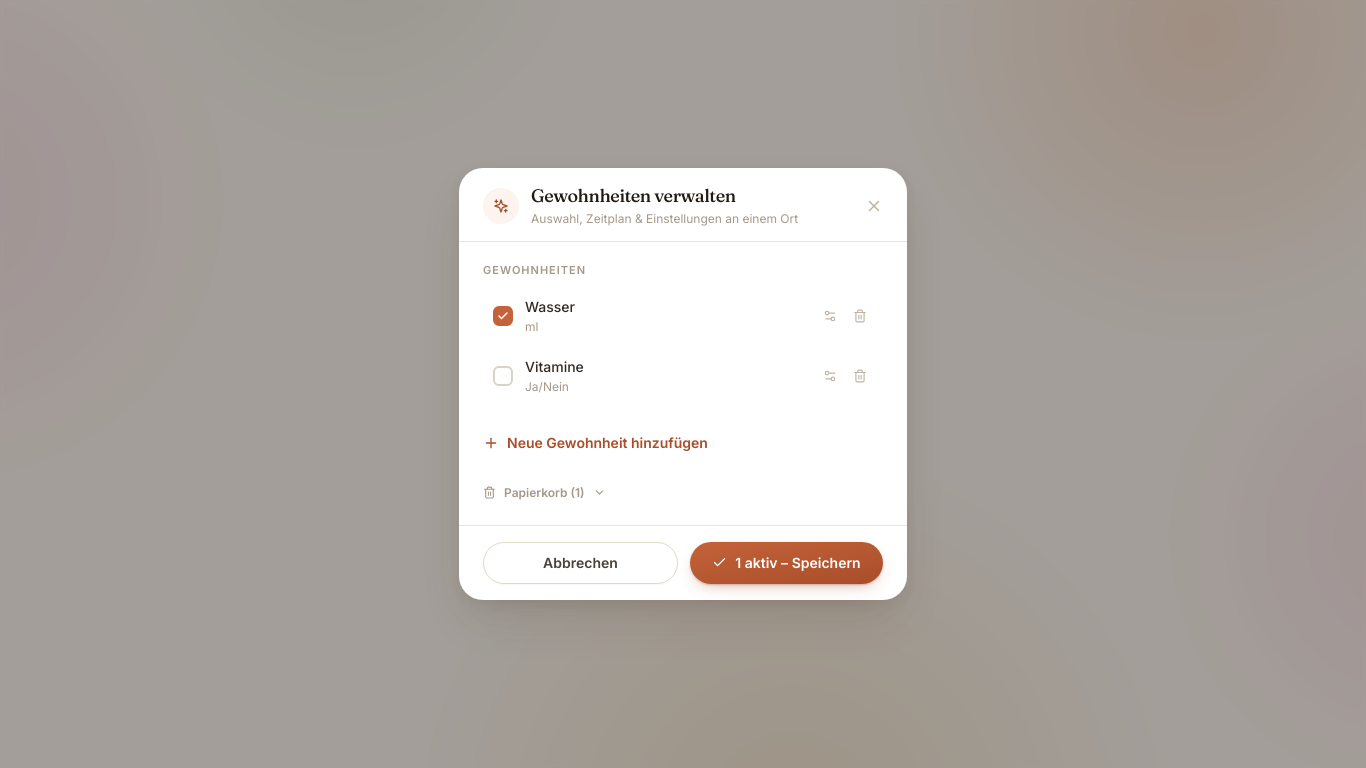
ManageHabitsModal › creates a habit with inline schedule settings in one go
Click the button "Neue Gewohnheit hinzufügen": (595, 443) top-left (483, 429), bottom-right (708, 457)
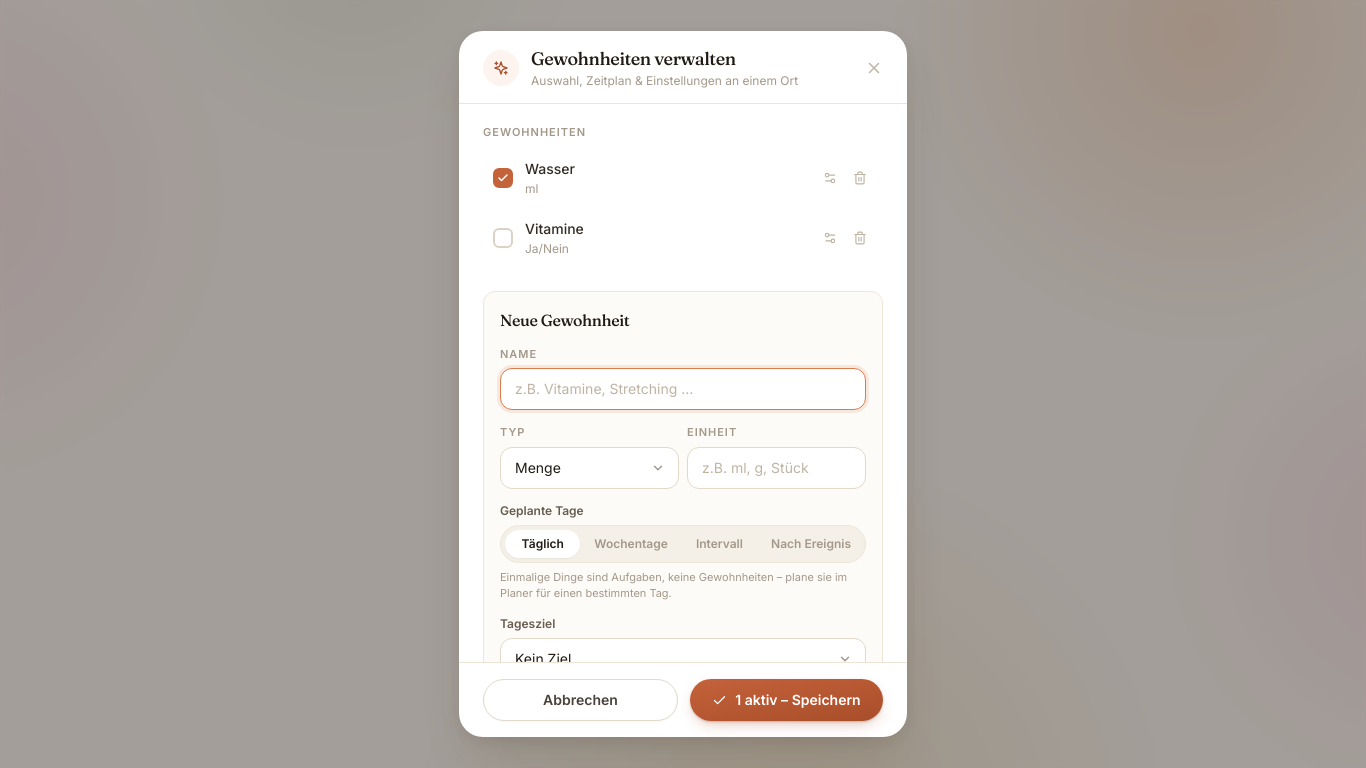
In the field with placeholder "z.B. Vitamine, Stretching …": (683, 390) top-left (500, 368), bottom-right (866, 410), type "Lesen"
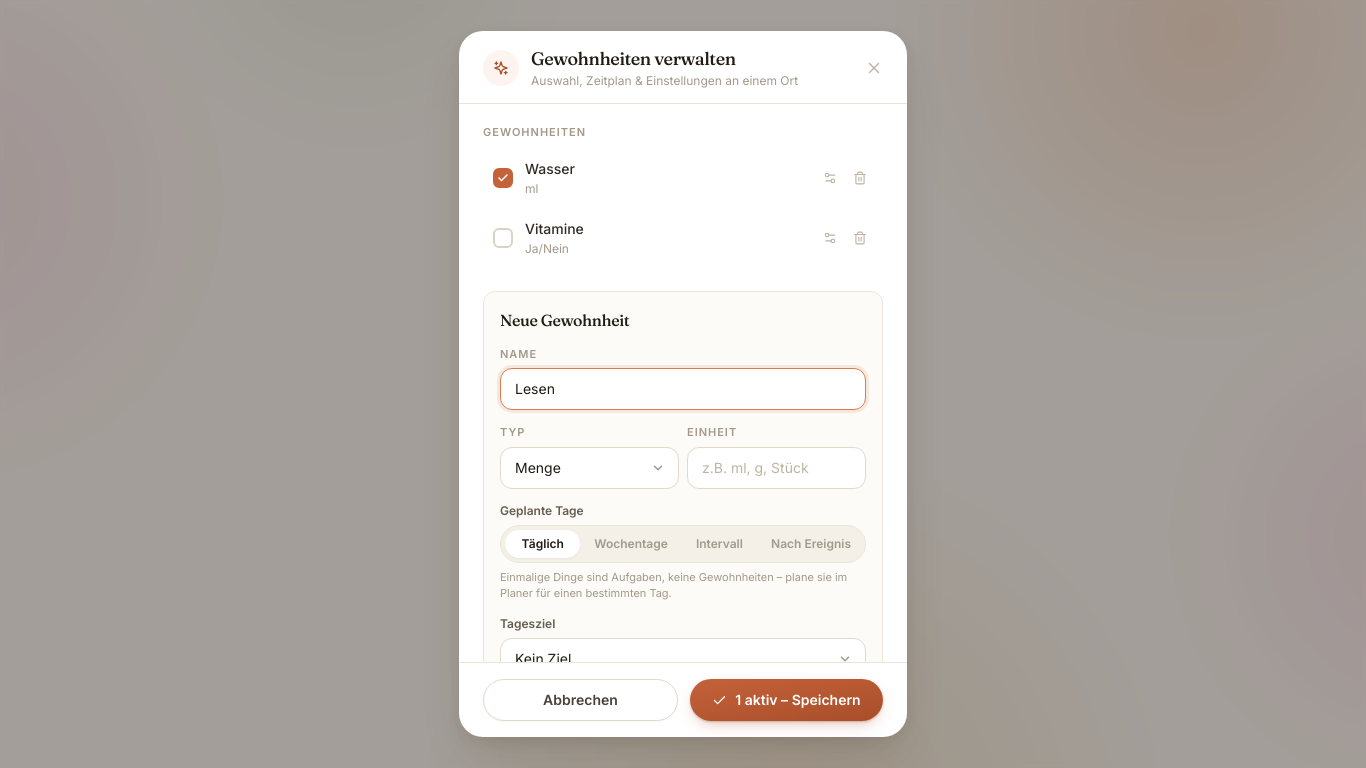
In the field with placeholder "z.B. ml, g, Stück": (776, 468) top-left (687, 447), bottom-right (866, 489), type "min"
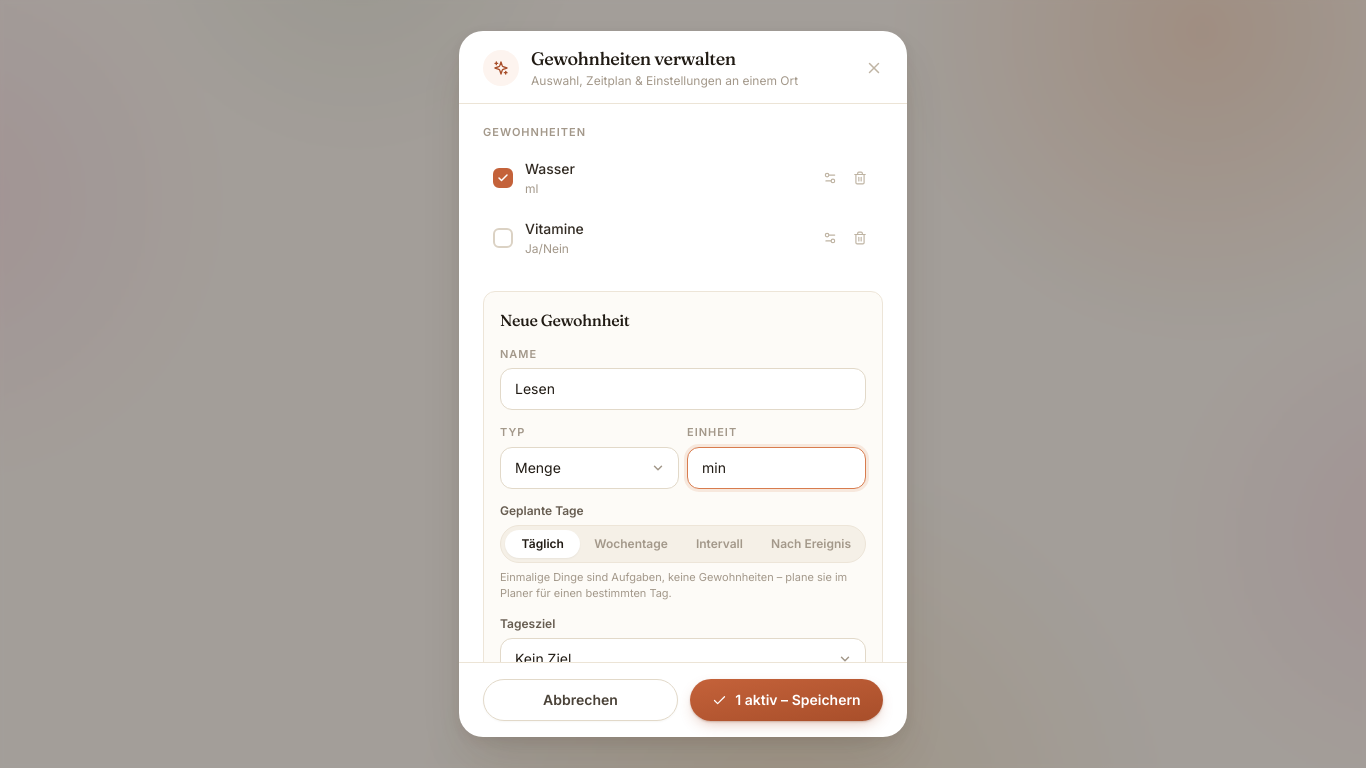
Note: Schedule fields are right in the create form
Click the button "Wochentage": (631, 544) top-left (584, 530), bottom-right (678, 558)
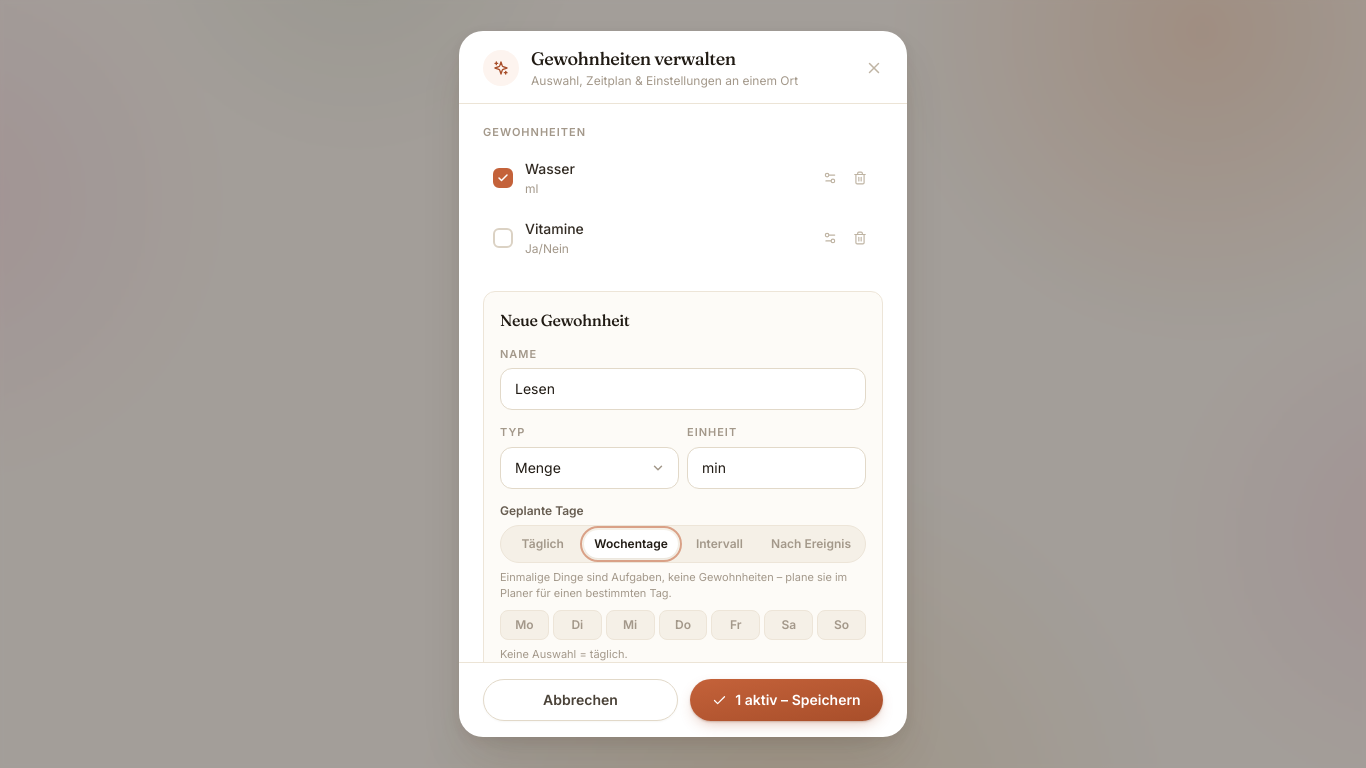
Click the button "Mo": (524, 625) top-left (500, 610), bottom-right (549, 640)
(page scrolled)
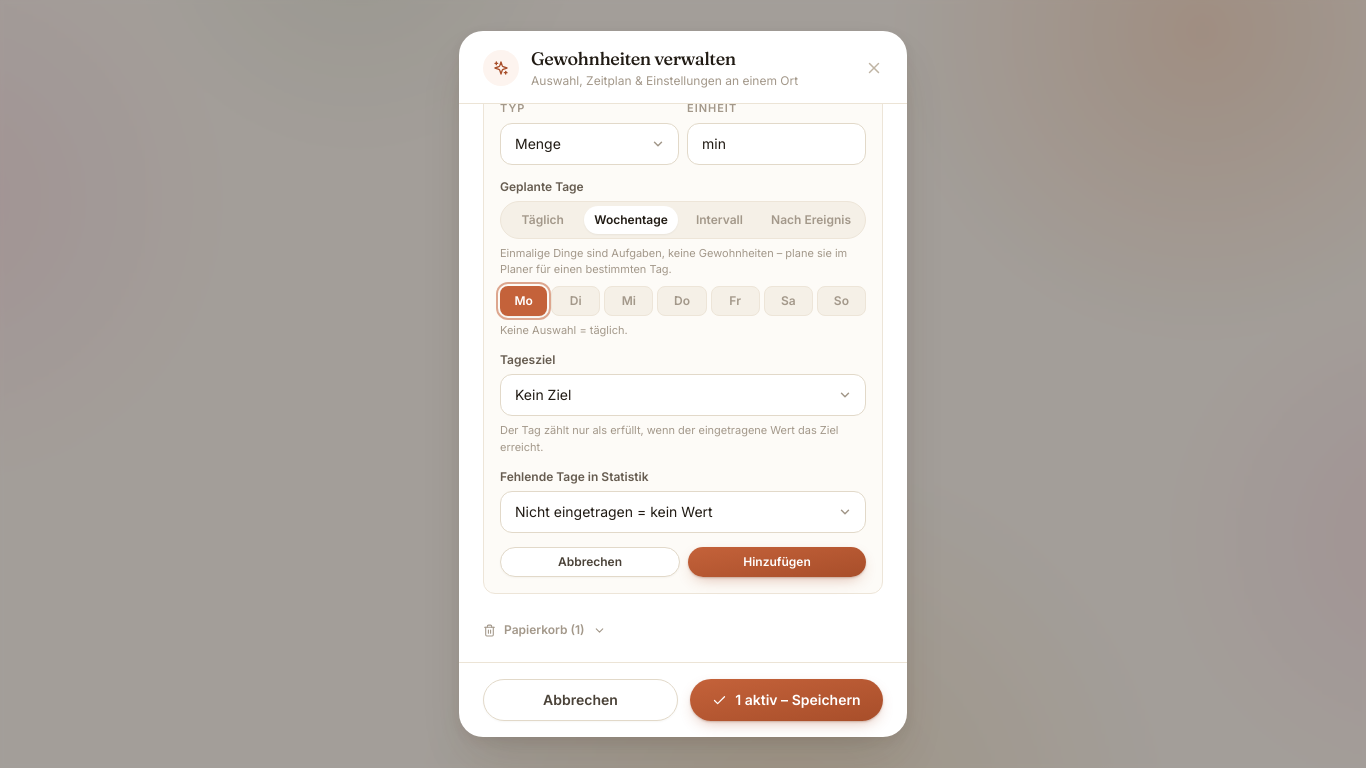
Click the button "Hinzufügen": (777, 562) top-left (688, 548), bottom-right (866, 578)
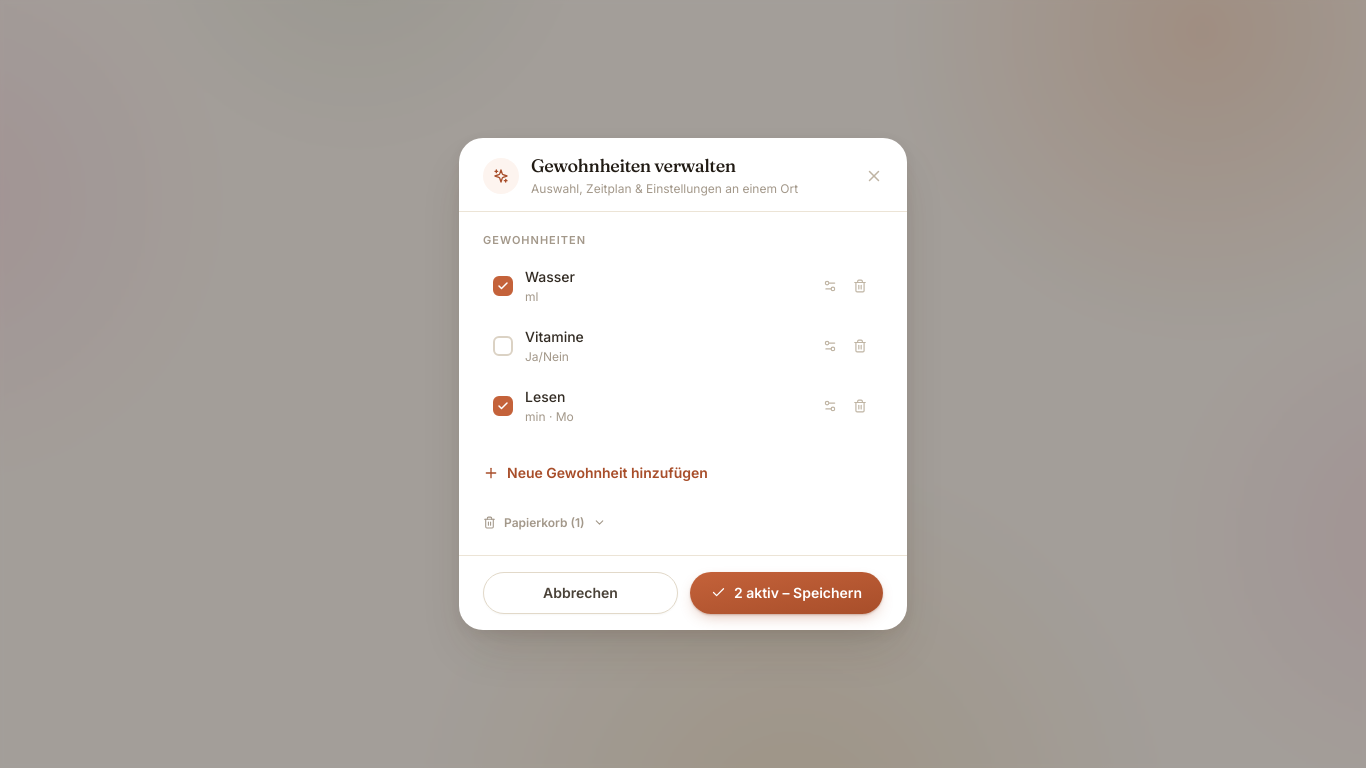
expect the text "Lesen" is shown: met, box top-left (525, 388), bottom-right (565, 405)
